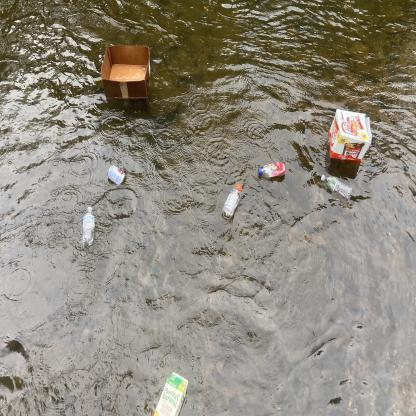trash: (98, 40, 154, 103), (324, 107, 374, 166), (152, 368, 192, 416), (319, 172, 354, 206), (221, 179, 244, 222), (79, 203, 97, 251), (254, 158, 288, 182), (106, 162, 130, 188)
